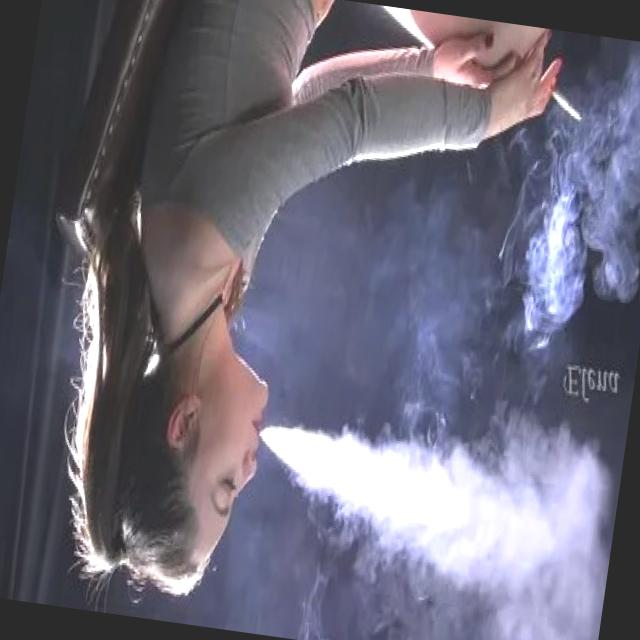smoke: (541, 76, 592, 132)
